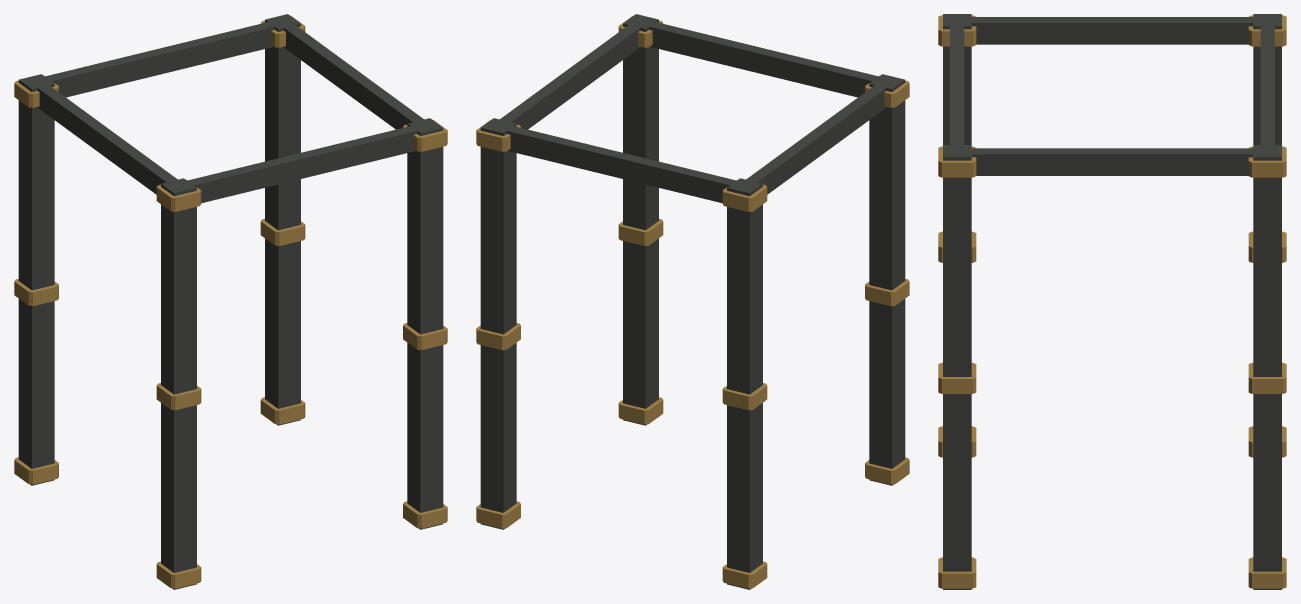
The model's file is b3_lift_frame.glb.
3 renders of one model, left to right at view 1: azimuth 30°, elevation 25°; view 2: azimuth 150°, elevation 25°; view 3: azimuth 270°, elevation 25°, orthographic. The views are drawn at different scales.
Visible parts, largest first — view 1: b3_lift_frame; view 2: b3_lift_frame; view 3: b3_lift_frame.
Part boxes in pixels (x1,y1,x2,y2): b3_lift_frame: (14, 14, 447, 589); b3_lift_frame: (476, 14, 909, 589); b3_lift_frame: (938, 14, 1286, 589).
Bounding box in the file's own units: 2.92 × 4 × 2.92.
